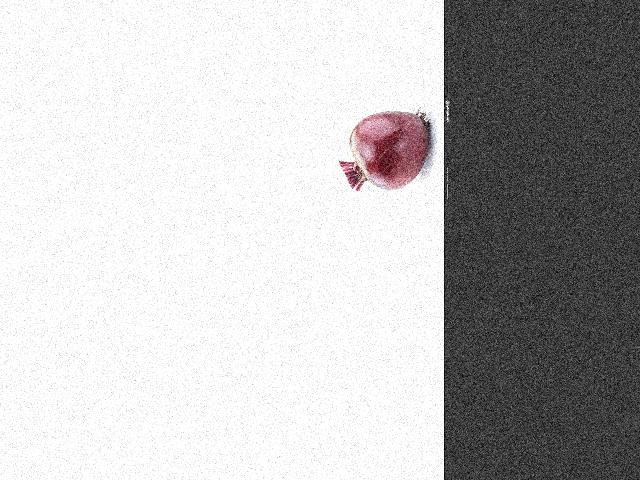beet: (339, 111, 428, 191)
